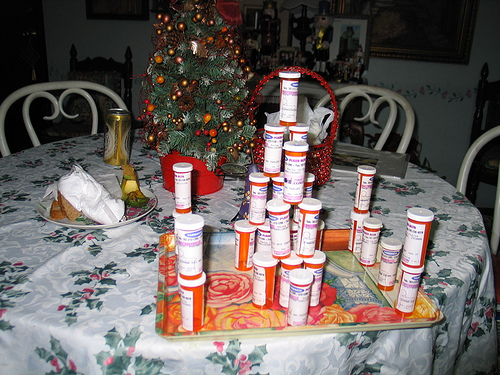pill bottle: (404, 204, 436, 267), (175, 277, 210, 334), (282, 139, 309, 206), (250, 251, 280, 309), (287, 266, 315, 328), (231, 217, 259, 272), (376, 235, 402, 294), (396, 265, 426, 316), (296, 199, 323, 255), (171, 161, 196, 218), (277, 69, 302, 126), (260, 123, 285, 177), (354, 165, 379, 214), (361, 215, 382, 269)
